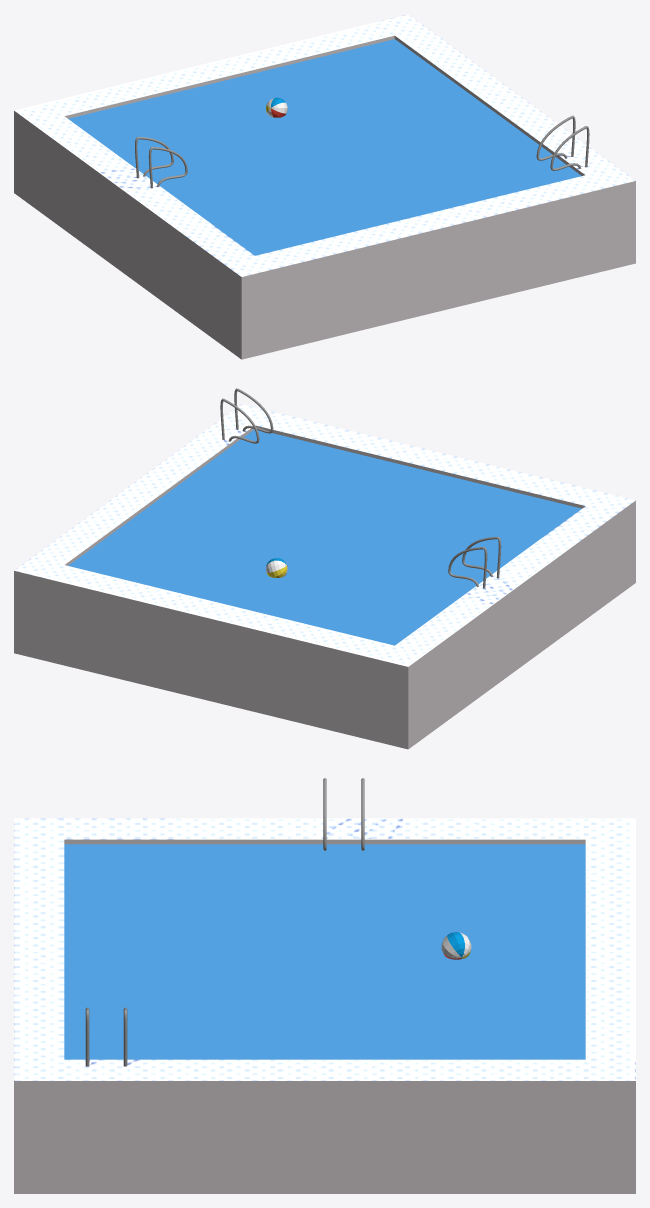
Rendered from scene_lfPvz5itM7.glb.
The picture shows the model from 3 angles, top to bottom: view 1: azimuth 30°, elevation 25°; view 2: azimuth 150°, elevation 25°; view 3: azimuth 270°, elevation 25°; orthographic projection. The views are drawn at different scales.
Visible parts, largest first — view 1: Cube, BezierCurve.003, BezierCurve.001; view 2: Cube, BezierCurve.003, BezierCurve.001; view 3: Cube, group1945116984, BezierCurve.003.
Boxes of the visible parts, left/top/right/bottom form: Cube: left=14, top=14, right=635, bottom=359; BezierCurve.003: left=536, top=115, right=589, bottom=170; BezierCurve.001: left=135, top=136, right=187, bottom=188; Cube: left=14, top=404, right=635, bottom=749; BezierCurve.003: left=220, top=388, right=273, bottom=443; BezierCurve.001: left=448, top=536, right=501, bottom=588; Cube: left=14, top=818, right=635, bottom=1193; group1945116984: left=441, top=932, right=471, bottom=959; BezierCurve.003: left=85, top=1007, right=127, bottom=1066.
Size of the model in its own units: 10 by 2.99 by 10.
8 materials, 1 textured.
